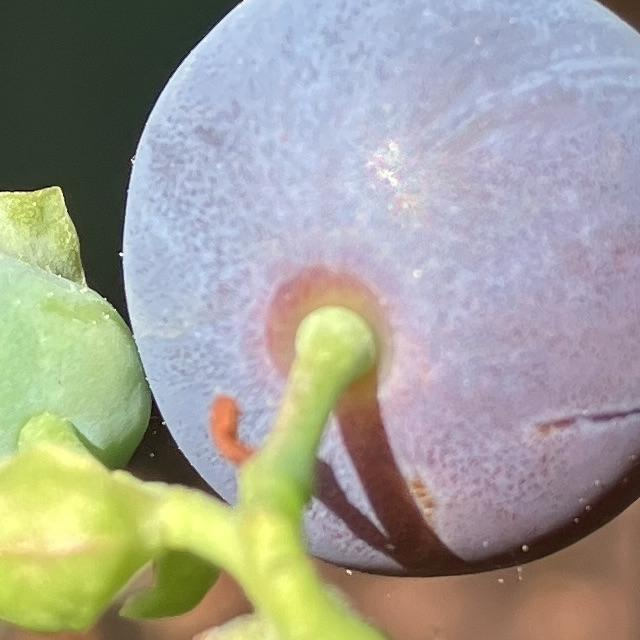Blueberries: (115, 0, 640, 580)
